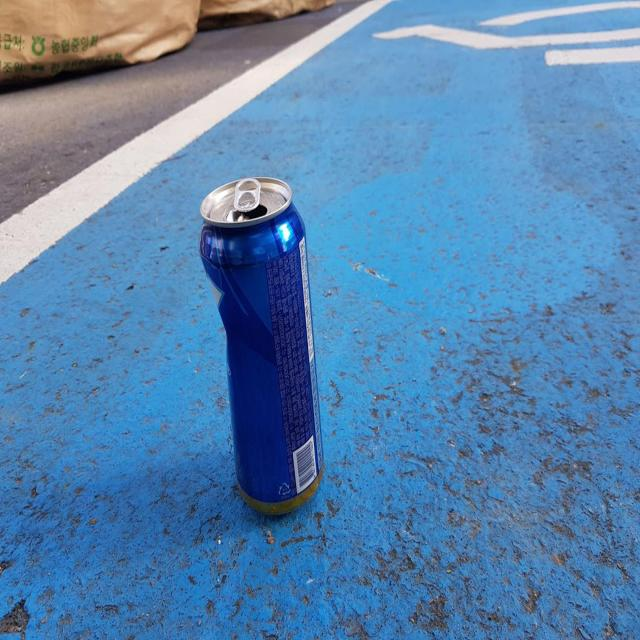can: (199, 176, 324, 514)
